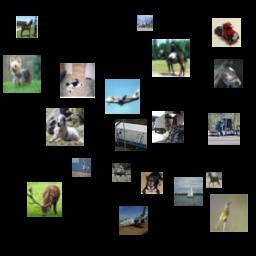airplane: (105, 79, 140, 114), (119, 206, 148, 235), (137, 15, 153, 31)
bird: (210, 194, 248, 232)
cat: (60, 63, 95, 98)
deer: (27, 182, 62, 217), (112, 163, 131, 182), (72, 158, 91, 177)
dog: (3, 55, 41, 93), (46, 108, 84, 146), (141, 172, 163, 194)
ship: (174, 177, 203, 206)
truck: (115, 119, 147, 151), (152, 111, 184, 143), (208, 113, 240, 145), (212, 18, 241, 47)
